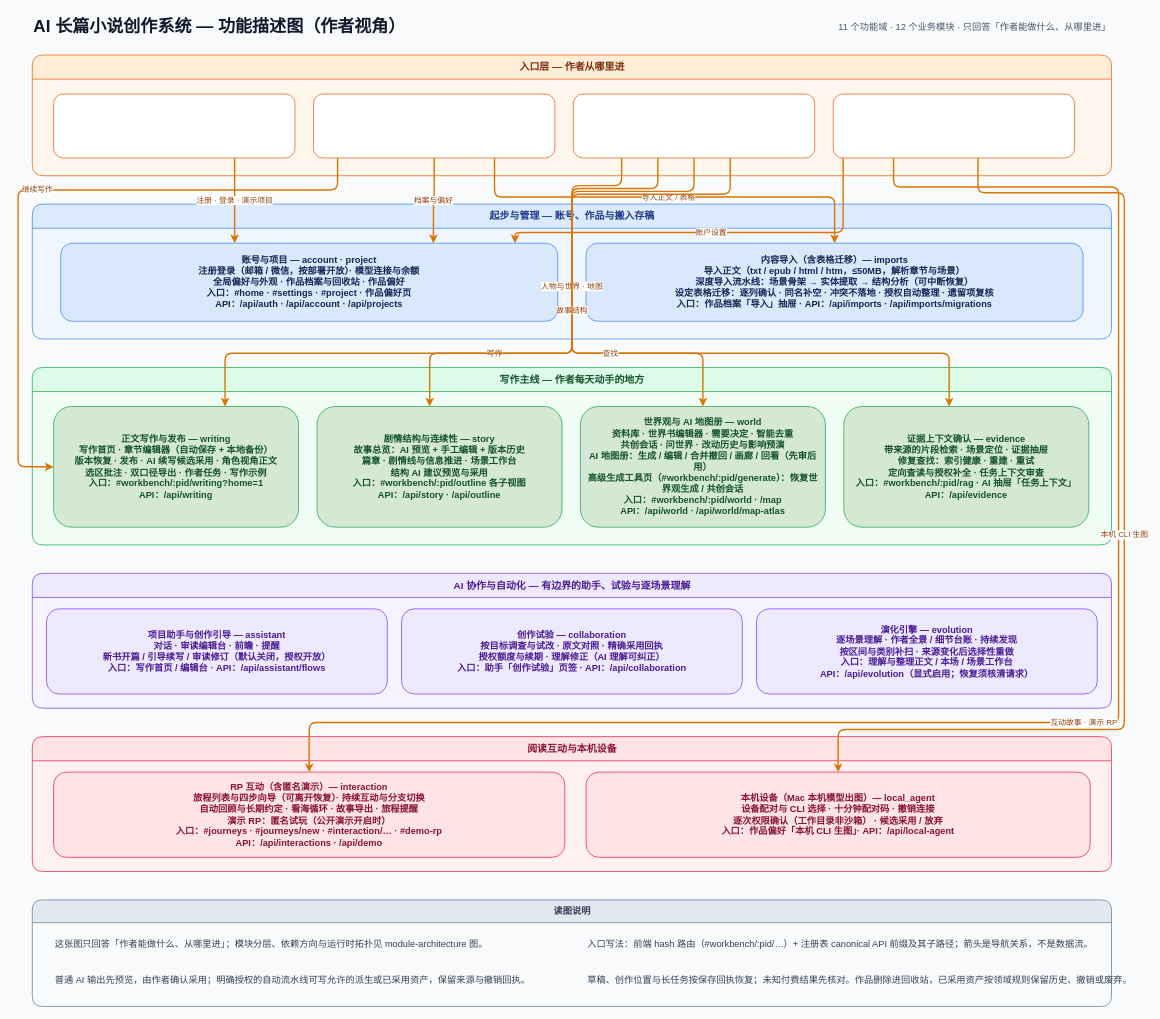
Some shapes in this 1160 by 1019 pixel diagram are drawn without their labels. Here are the shapes that lost their labels. From the top down, the centre of each, then its label:
At pixel 174 125: "首页 #home 我是作家 / 我是 RP 用户 查看演示项目 · 注册登录".
At pixel 434 125: "作品档案 #project 多作品管理 · 导入 · 继续写作".
At pixel 694 125: "顶栏导航 写作 · 人物与世界 · 故事结构 · 地图 · 查找".
At pixel 953 125: "更多菜单 ⋯ 作品偏好 · 高级生成工具 · 互动故事 · 账户设置".
